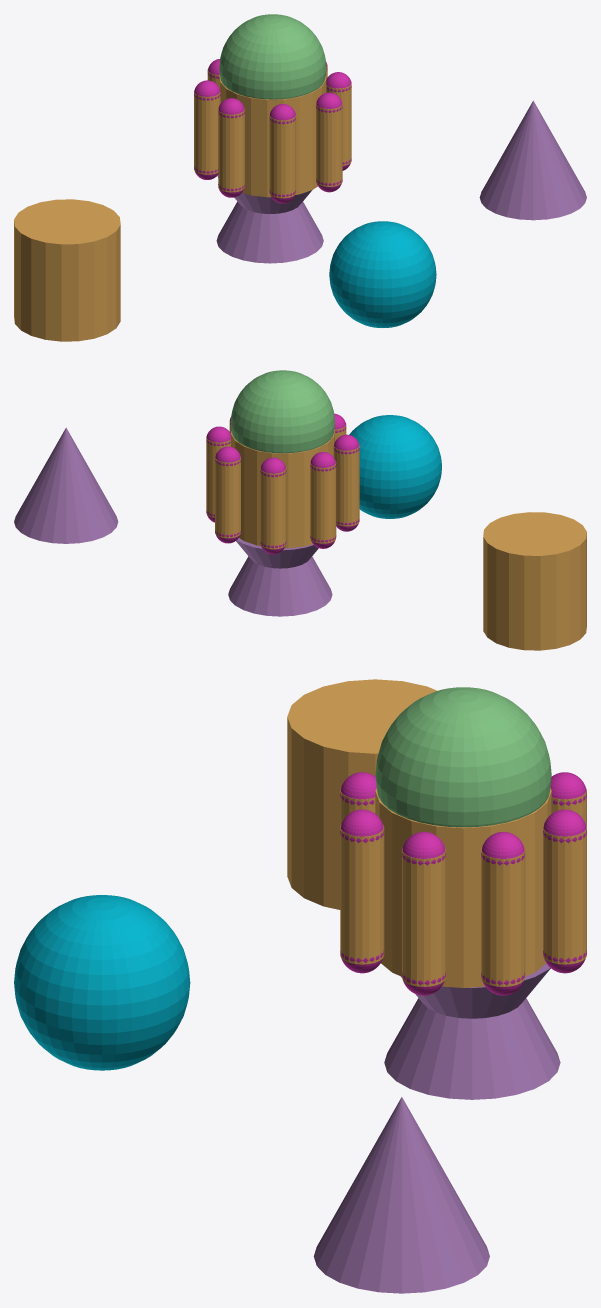
The model's file is TedRocket.glb.
The picture shows the model from 3 angles, top to bottom: view 1: azimuth 30°, elevation 25°; view 2: azimuth 150°, elevation 25°; view 3: azimuth 270°, elevation 25°; orthographic projection. The views are drawn at different scales.
Parts seen in each view (by area): view 1: Mesh_Mesh_head_geo.001_lambert2SG.001; view 2: Mesh_Mesh_head_geo.001_lambert2SG.001; view 3: Mesh_Mesh_head_geo.001_lambert2SG.001.
Part boxes in pixels (x1,y1,x2,y2): Mesh_Mesh_head_geo.001_lambert2SG.001: (14,14,586,341); Mesh_Mesh_head_geo.001_lambert2SG.001: (14,370,586,650); Mesh_Mesh_head_geo.001_lambert2SG.001: (14,679,586,1293).
Size of the model in its own units: 122 by 46 by 65.
